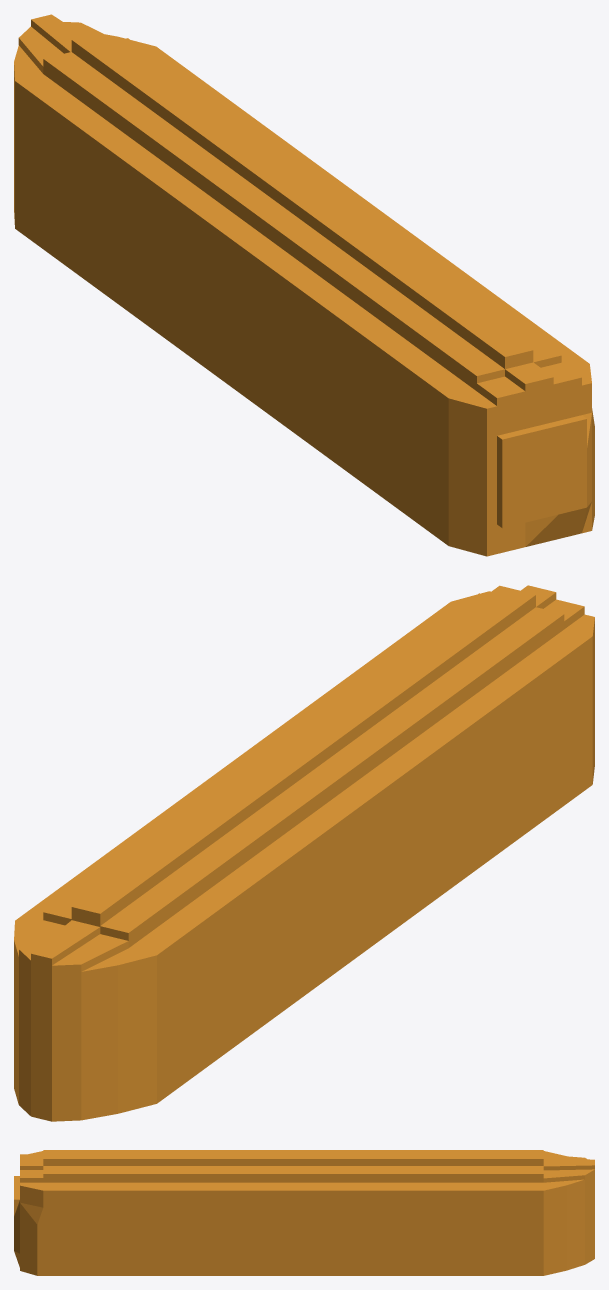
File: Flipper.fbx
3 renders of one model, top to bottom at view 1: azimuth 30°, elevation 25°; view 2: azimuth 150°, elevation 25°; view 3: azimuth 270°, elevation 25°, orthographic. The views are drawn at different scales.
Visible parts, largest first — view 1: pCube1; view 2: pCube1; view 3: pCube1.
Boxes of the visible parts, box(x1,y1,x2,y2) form: pCube1: box(14, 14, 594, 556); pCube1: box(14, 585, 594, 1121); pCube1: box(14, 1150, 594, 1275).
Bounding box in the file's own units: 1 × 1.19 × 6.17.
